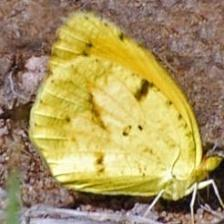butterfly: (31, 13, 222, 200)
